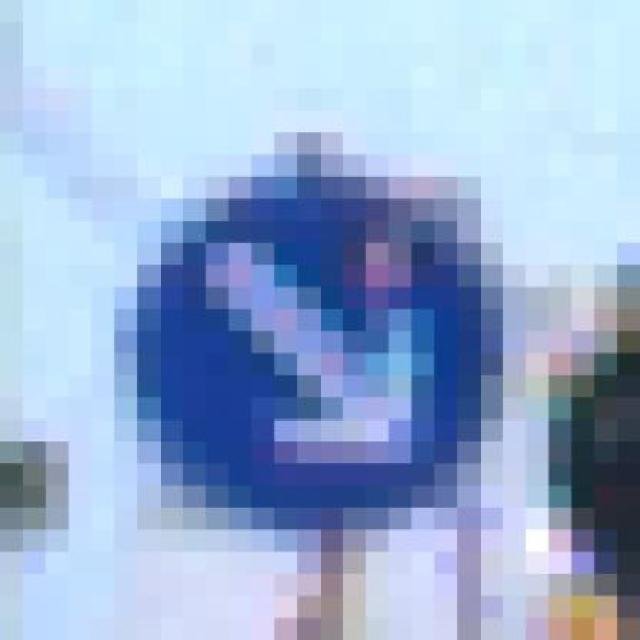Keep-Right: (114, 110, 526, 552)
